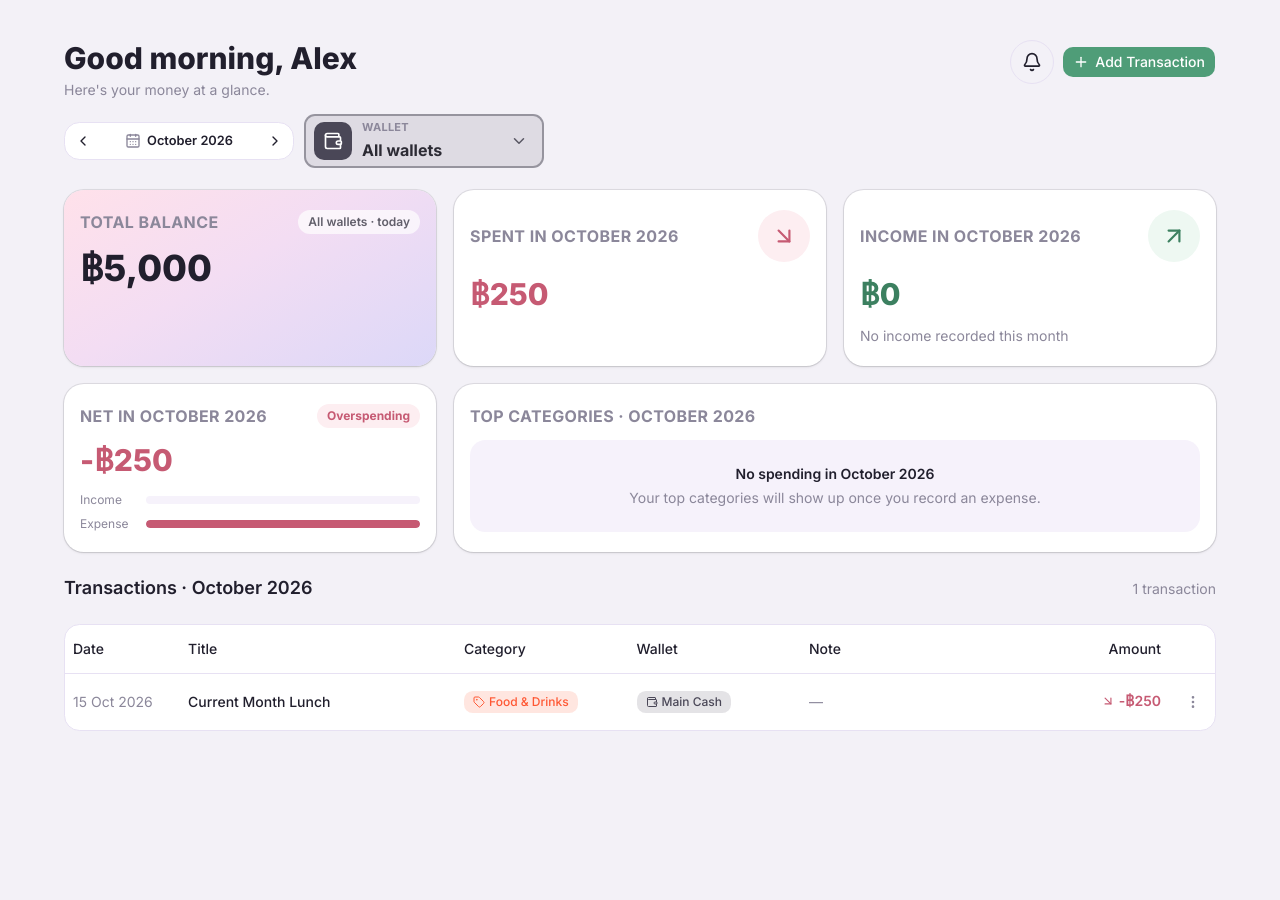
Test case: Task 59 — Month Navigation on HomePage › navigates to next month (future) and displays empty-month state
Click Next month button in MonthPicker
Step 1. Click the button named "Next month" → [275, 141], box [261,127,289,155]
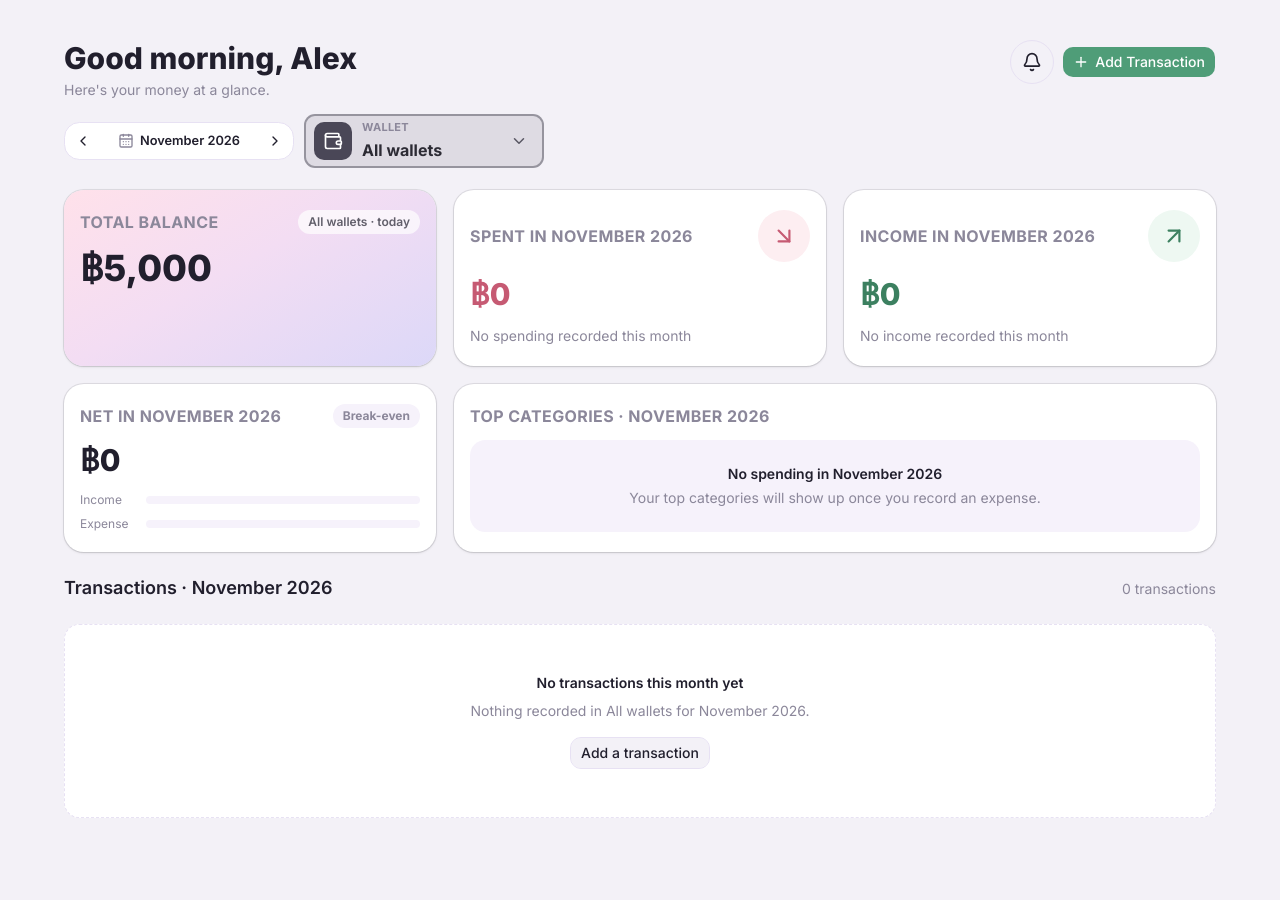
Now the text "No transactions this month yet" is shown, box [537,673,743,693]
Now the text "Current Month Lunch" is gone
